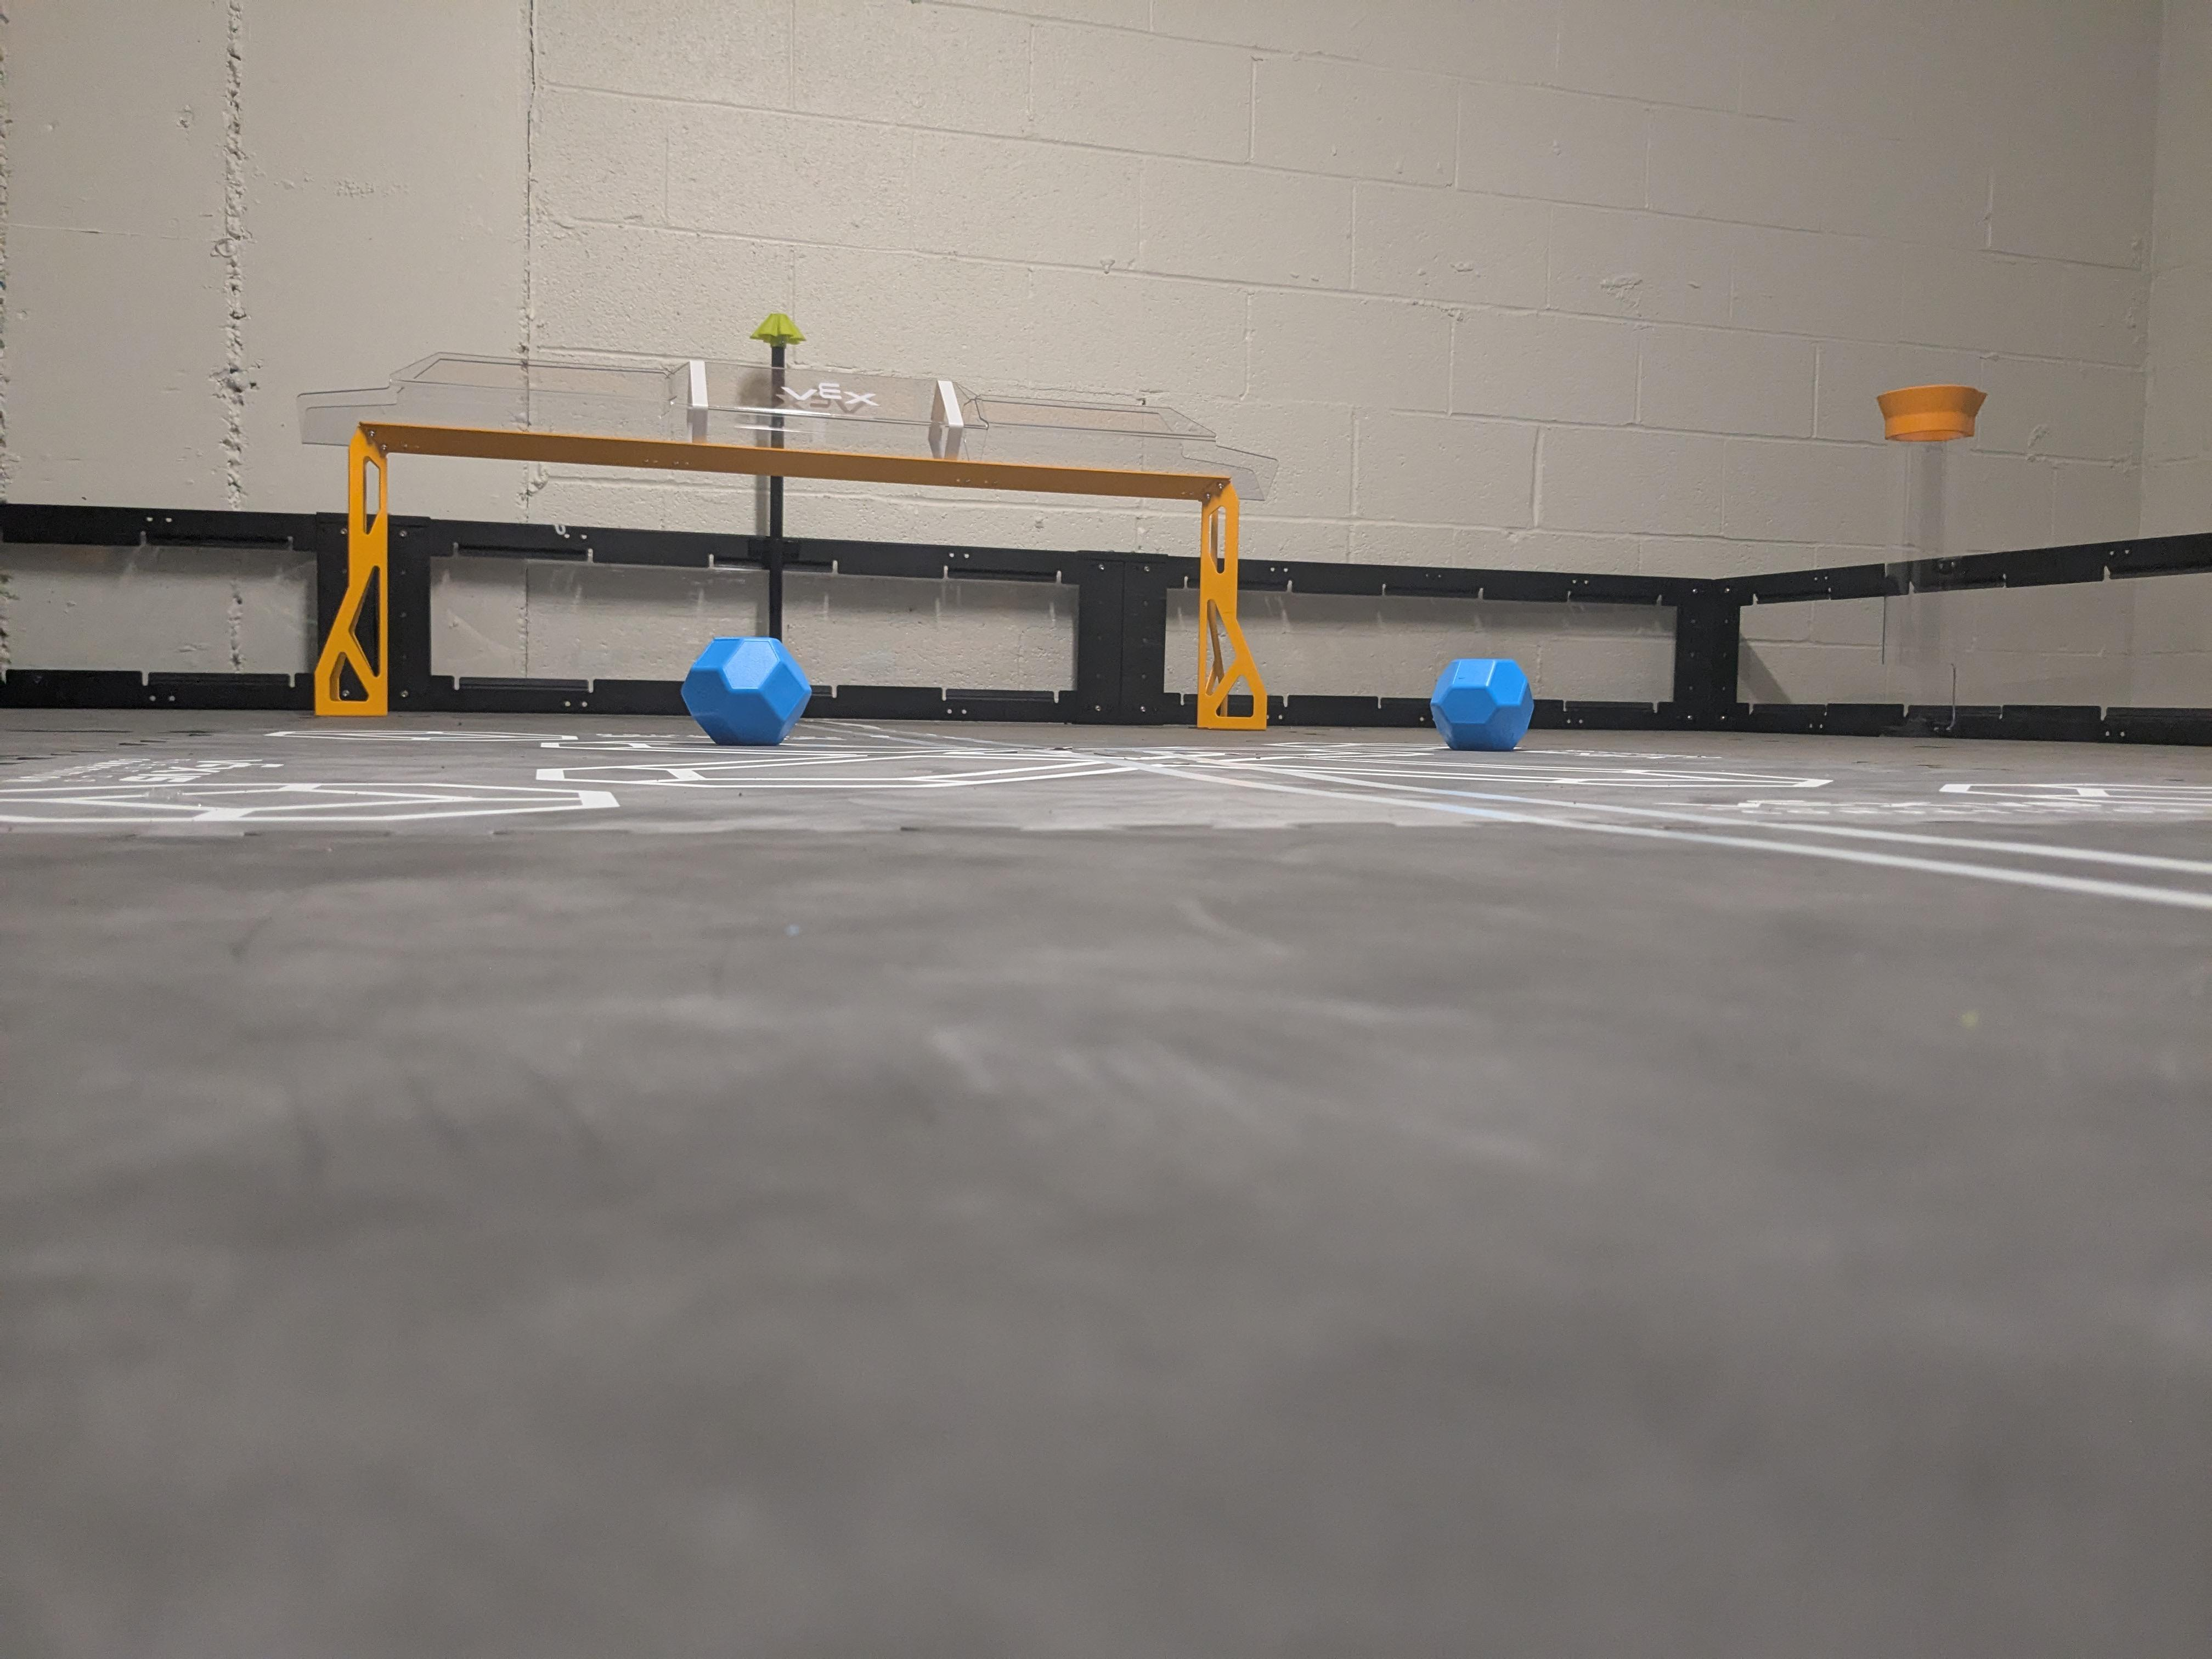Vex-Pieces-BLUE: (685, 638, 808, 744), (1430, 659, 1529, 751)
